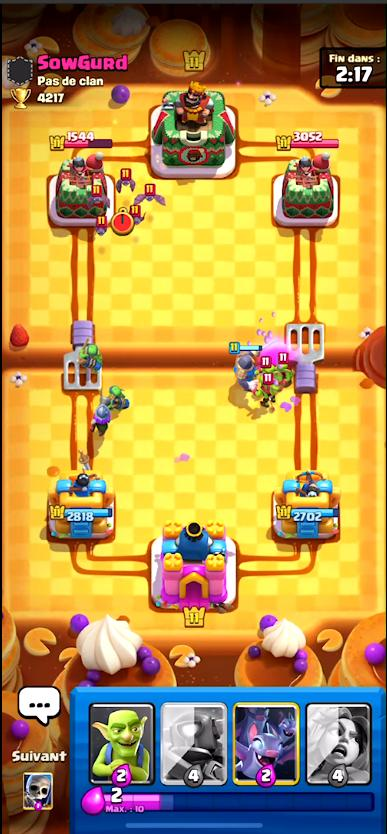bat: (135, 184, 165, 208), (85, 185, 110, 209), (128, 206, 147, 227), (93, 214, 109, 236)
chevalier: (229, 343, 259, 392)
gobelin: (260, 373, 277, 406), (260, 355, 278, 385), (278, 353, 294, 385), (116, 167, 135, 192)
gobelin_lances: (82, 340, 102, 373), (108, 386, 128, 410)
mousquetaire: (93, 400, 115, 439)
